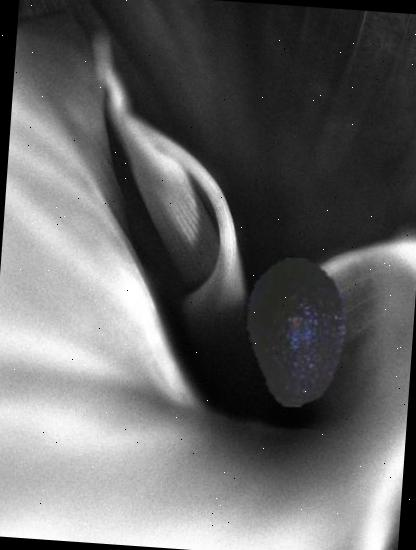Avocado: (215, 252, 375, 412)
